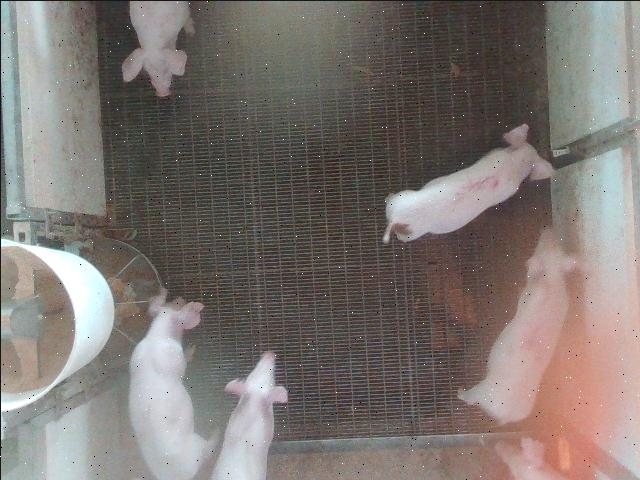pig-4: (458, 228, 578, 423)
pig-5: (381, 122, 554, 241)
